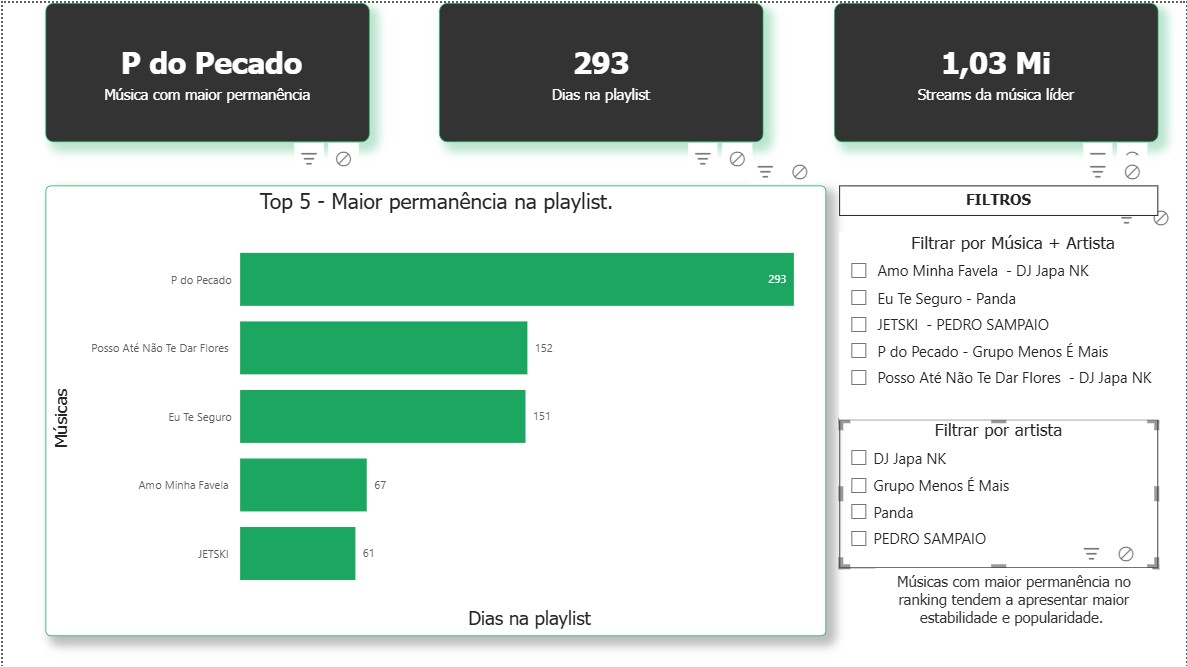

The page's visual inventory and layout, read from the dashboard file:
{"tool":"powerbi","page":{"name":"Análise de permanência no Ranking - Top 5.","canvas":[1280,720],"ordinal":1},"visuals":[{"type":"barChart","title":"Top 5 - Maior permanência na playlist.","fields":{"Y":["T_Top50Spotify.dias_na_lista"],"Category":["T_Top50Spotify.musica"]},"box":[45.3,197.6,843.9,487.1],"z":0},{"type":"slicer","title":"Filtrar por artista","fields":{"Values":["T_Top50Spotify.artista"]},"box":[904.3,450.1,344.4,160.5],"z":1},{"type":"card","fields":{"Values":["T_Top50Spotify.Top Música Permanência"]},"box":[45.3,0,350,150],"z":2},{"type":"card","fields":{"Values":["T_Top50Spotify.Top Dias Permanência"]},"box":[472,0,350,150],"z":3},{"type":"card","fields":{"Values":["T_Top50Spotify.Plays - Top Permanência"]},"box":[898.8,0,350,150],"z":4},{"type":"slicer","title":"Filtrar por Música + Artista","fields":{"Values":["T_Top50Spotify.MusicaCompleta"]},"box":[904.3,247,376,203.1],"z":5},{"type":"textbox","box":[942.7,610.6,299.1,74.1],"z":6},{"type":"textbox","box":[904.3,197.6,344.4,32.9],"z":7}]}

Visuals, with their boxes in screenshot pixels (x1, y1, x2, y2), scaled from the page's 1280x720 canvas onto the 1187x667 screenshot:
"Top 5 - Maior permanência na playlist." barChart: box(42, 183, 825, 634)
"Filtrar por artista" slicer: box(839, 417, 1158, 566)
card - T_Top50Spotify.Top Música Permanência: box(42, 0, 367, 139)
card - T_Top50Spotify.Top Dias Permanência: box(438, 0, 762, 139)
card - T_Top50Spotify.Plays - Top Permanência: box(833, 0, 1158, 139)
"Filtrar por Música + Artista" slicer: box(839, 229, 1186, 417)
textbox: box(874, 566, 1152, 634)
textbox: box(839, 183, 1158, 214)
